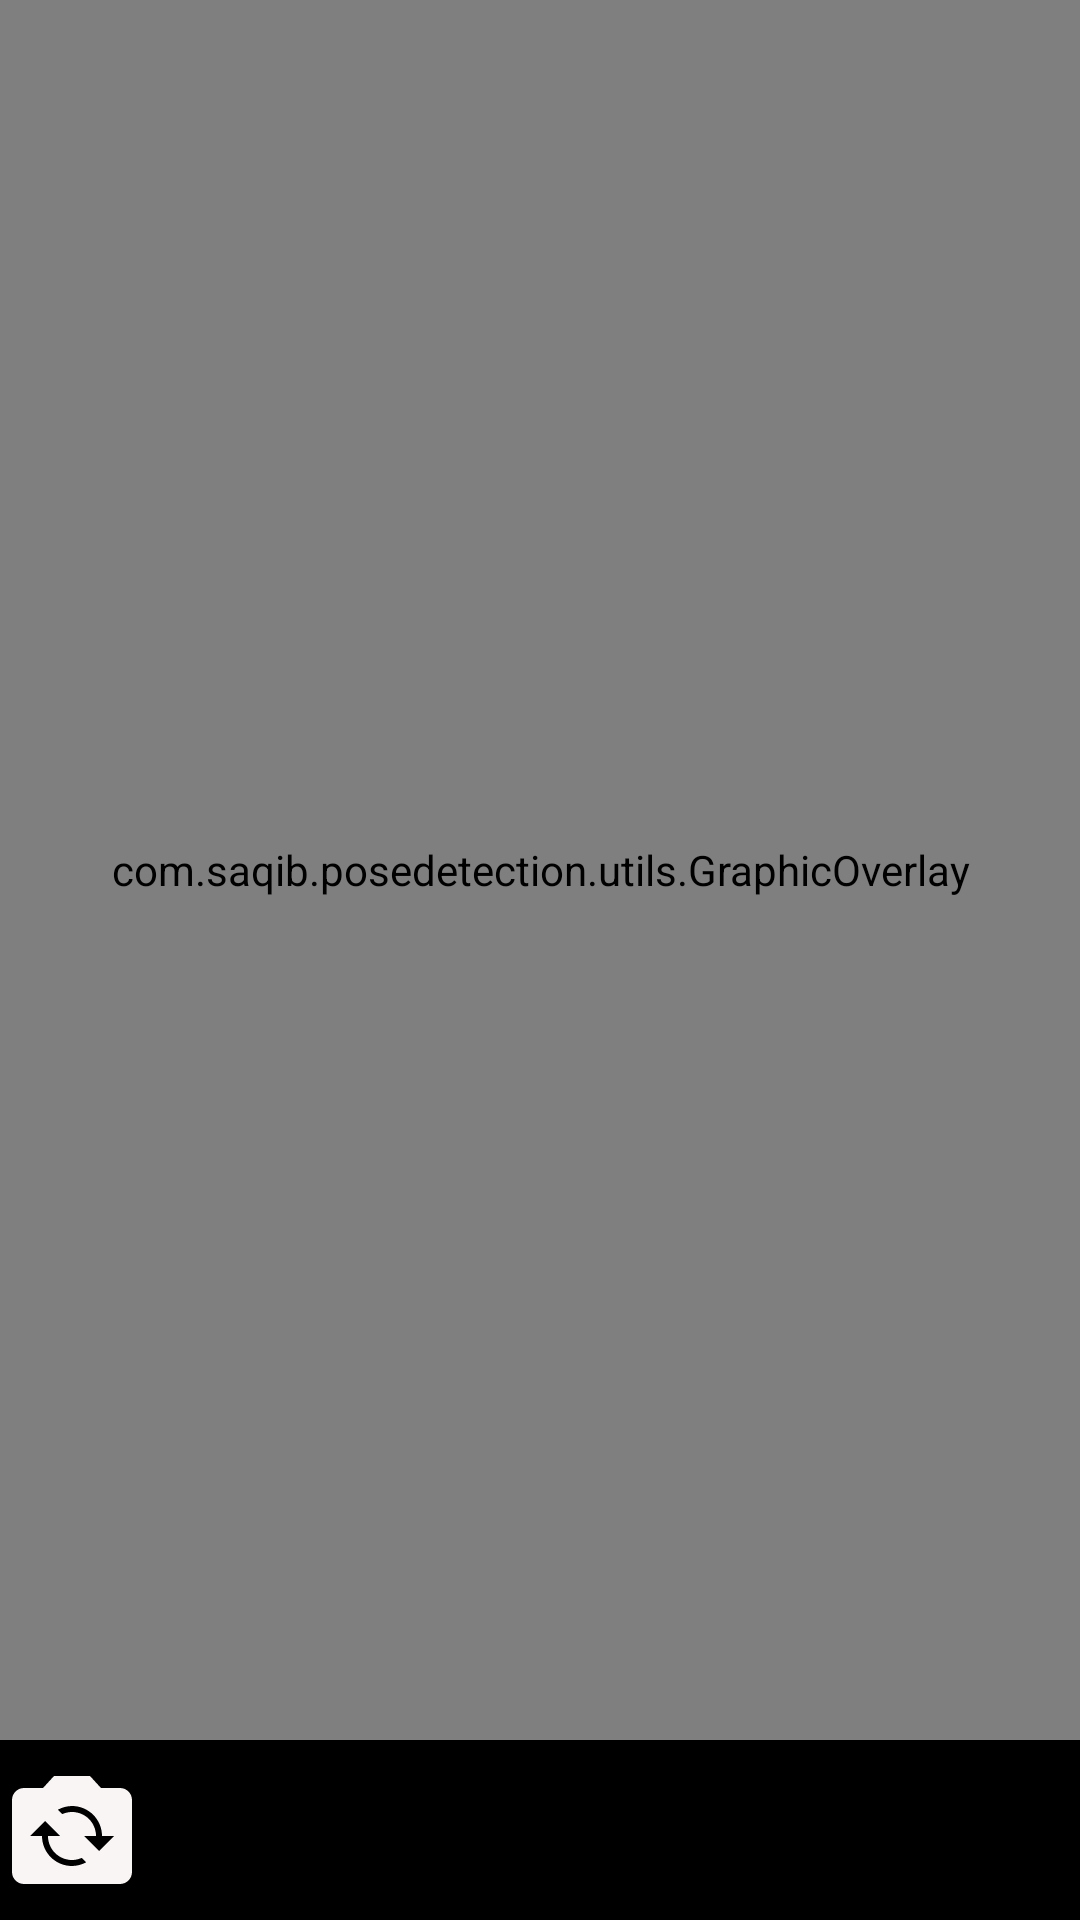

Icons on this 1080px x 1920px Android screen, each with the point to tap as (x=x, y=y):
flip camera: (x=72, y=1830)
